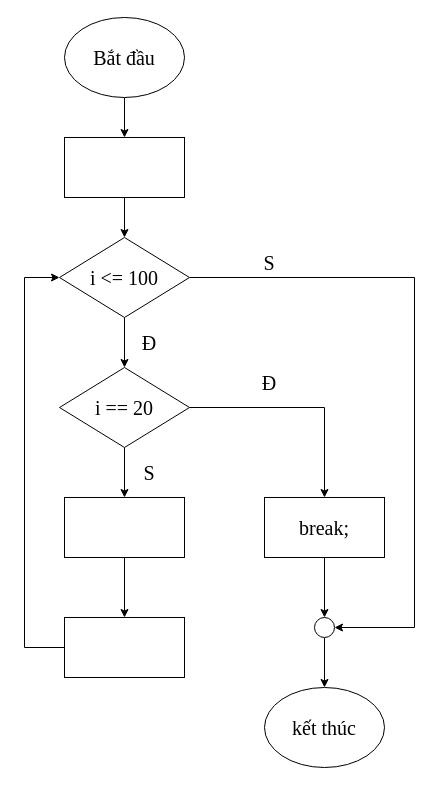
Some shapes in this 440 by 785 pixel diagram are drawn without their labels. Each missing label, with the centre of its shape:
"i++" goes at point 124,647.
"In i" goes at point 124,527.
"khai báo i = 1" goes at point 124,167.
